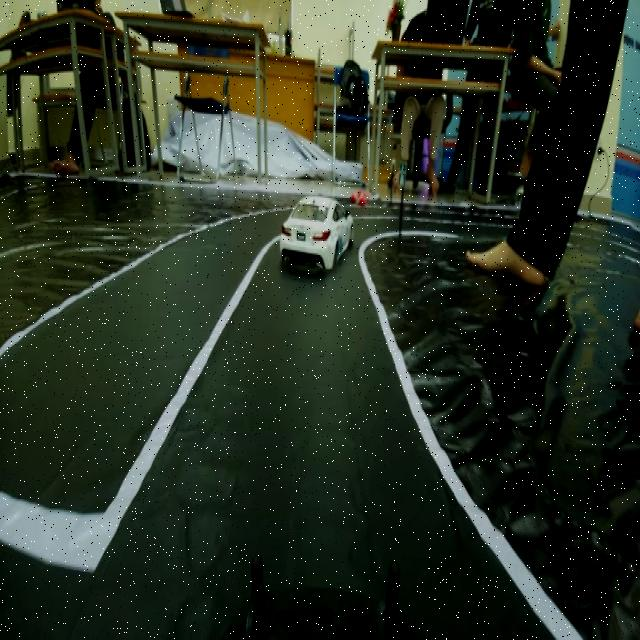car: (272, 196, 358, 278)
